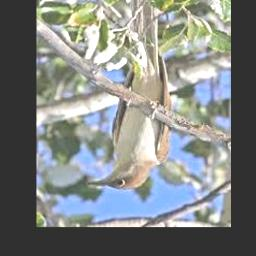Cuckoo: (88, 0, 172, 189)
